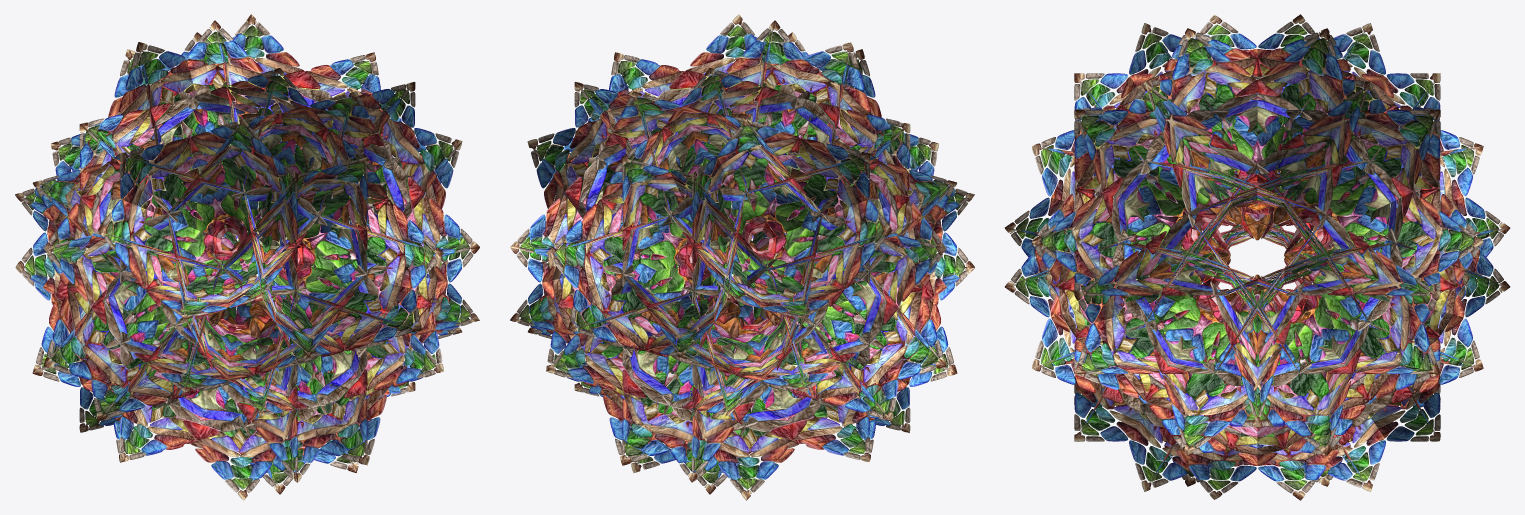
The model's file is 3GreatRhombidodecahedron.gltf.
3 views of the same model, side by side, from view 1: azimuth 30°, elevation 25°; view 2: azimuth 150°, elevation 25°; view 3: azimuth 270°, elevation 25° (orthographic). The views are drawn at different scales.
Visible parts, largest first — view 1: 1GreatRhombidodecahedron; view 2: 1GreatRhombidodecahedron; view 3: 1GreatRhombidodecahedron.
Part boxes in pixels (x1=…): 1GreatRhombidodecahedron: x1=15, y1=14, x2=479, y2=500; 1GreatRhombidodecahedron: x1=510, y1=14, x2=974, y2=500; 1GreatRhombidodecahedron: x1=1005, y1=14, x2=1510, y2=500.
Size of the model in its own units: 1.38 by 1.38 by 1.38.
1 material, 1 textured.
